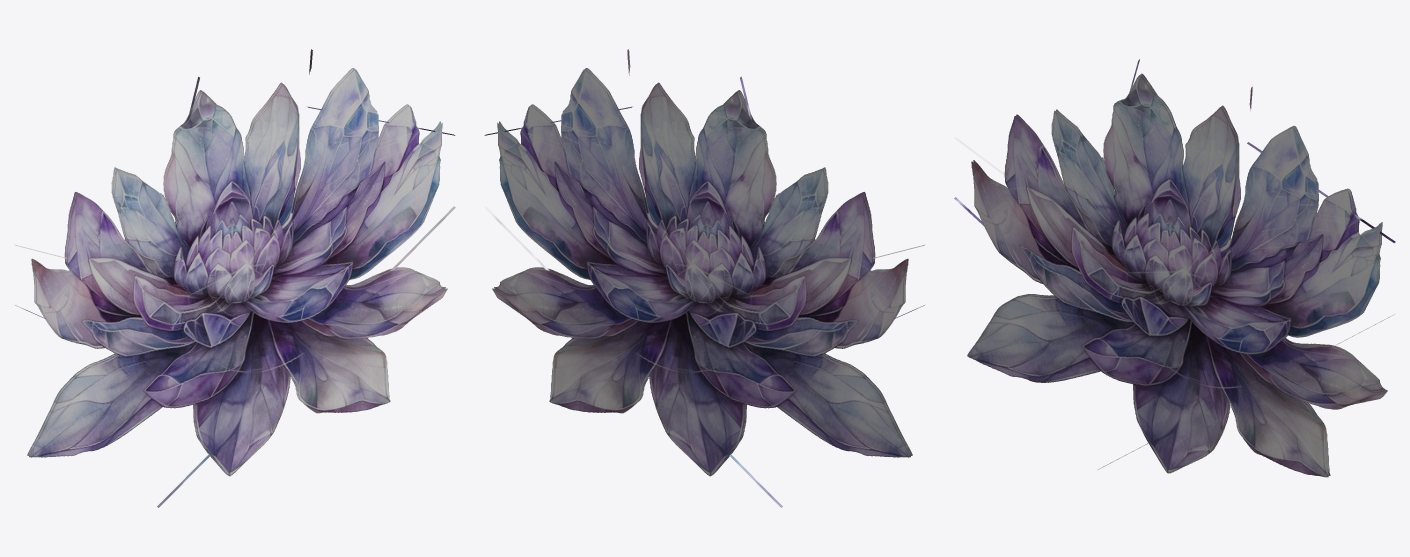
Rendered from fractured.fbx.
3 views of the same model, side by side, from view 1: azimuth 30°, elevation 25°; view 2: azimuth 150°, elevation 25°; view 3: azimuth 330°, elevation 25° (orthographic).
Visible parts, largest first — view 1: polySurface14, polySurface23, polySurface13, polySurface21, polySurface19, polySurface18, polySurface17, polySurface22, polySurface20, polySurface24; view 2: polySurface14, polySurface23, polySurface13, polySurface21, polySurface19, polySurface18, polySurface17, polySurface22, polySurface20, polySurface24; view 3: polySurface14, polySurface23, polySurface13, polySurface21, polySurface19, polySurface18, polySurface17, polySurface22, polySurface20, polySurface24.
Boxes of the visible parts, x1,y1,x2,y2 form: polySurface14: [167, 50, 312, 404]; polySurface23: [298, 107, 455, 271]; polySurface13: [110, 214, 260, 507]; polySurface21: [293, 231, 447, 412]; polySurface19: [15, 76, 199, 279]; polySurface18: [30, 248, 150, 356]; polySurface17: [15, 305, 131, 457]; polySurface22: [288, 253, 392, 376]; polySurface20: [157, 373, 332, 507]; polySurface24: [307, 49, 454, 135]; polySurface14: [627, 50, 772, 404]; polySurface23: [484, 107, 641, 271]; polySurface13: [679, 214, 829, 507]; polySurface21: [485, 207, 646, 412]; polySurface19: [740, 77, 925, 279]; polySurface18: [789, 246, 924, 356]; polySurface17: [808, 305, 924, 457]; polySurface22: [547, 253, 651, 376]; polySurface20: [607, 373, 782, 507]; polySurface24: [484, 49, 632, 135]; polySurface14: [1105, 61, 1252, 416]; polySurface23: [1236, 143, 1394, 347]; polySurface13: [1048, 181, 1198, 442]; polySurface21: [1230, 314, 1394, 477]; polySurface19: [954, 59, 1139, 238]; polySurface18: [956, 137, 1088, 305]; polySurface17: [954, 197, 1069, 382]; polySurface22: [1226, 283, 1332, 401]; polySurface20: [1098, 400, 1270, 473]; polySurface24: [1247, 86, 1395, 242].
Bounding box in the file's own units: 1340 × 1223 × 10.
